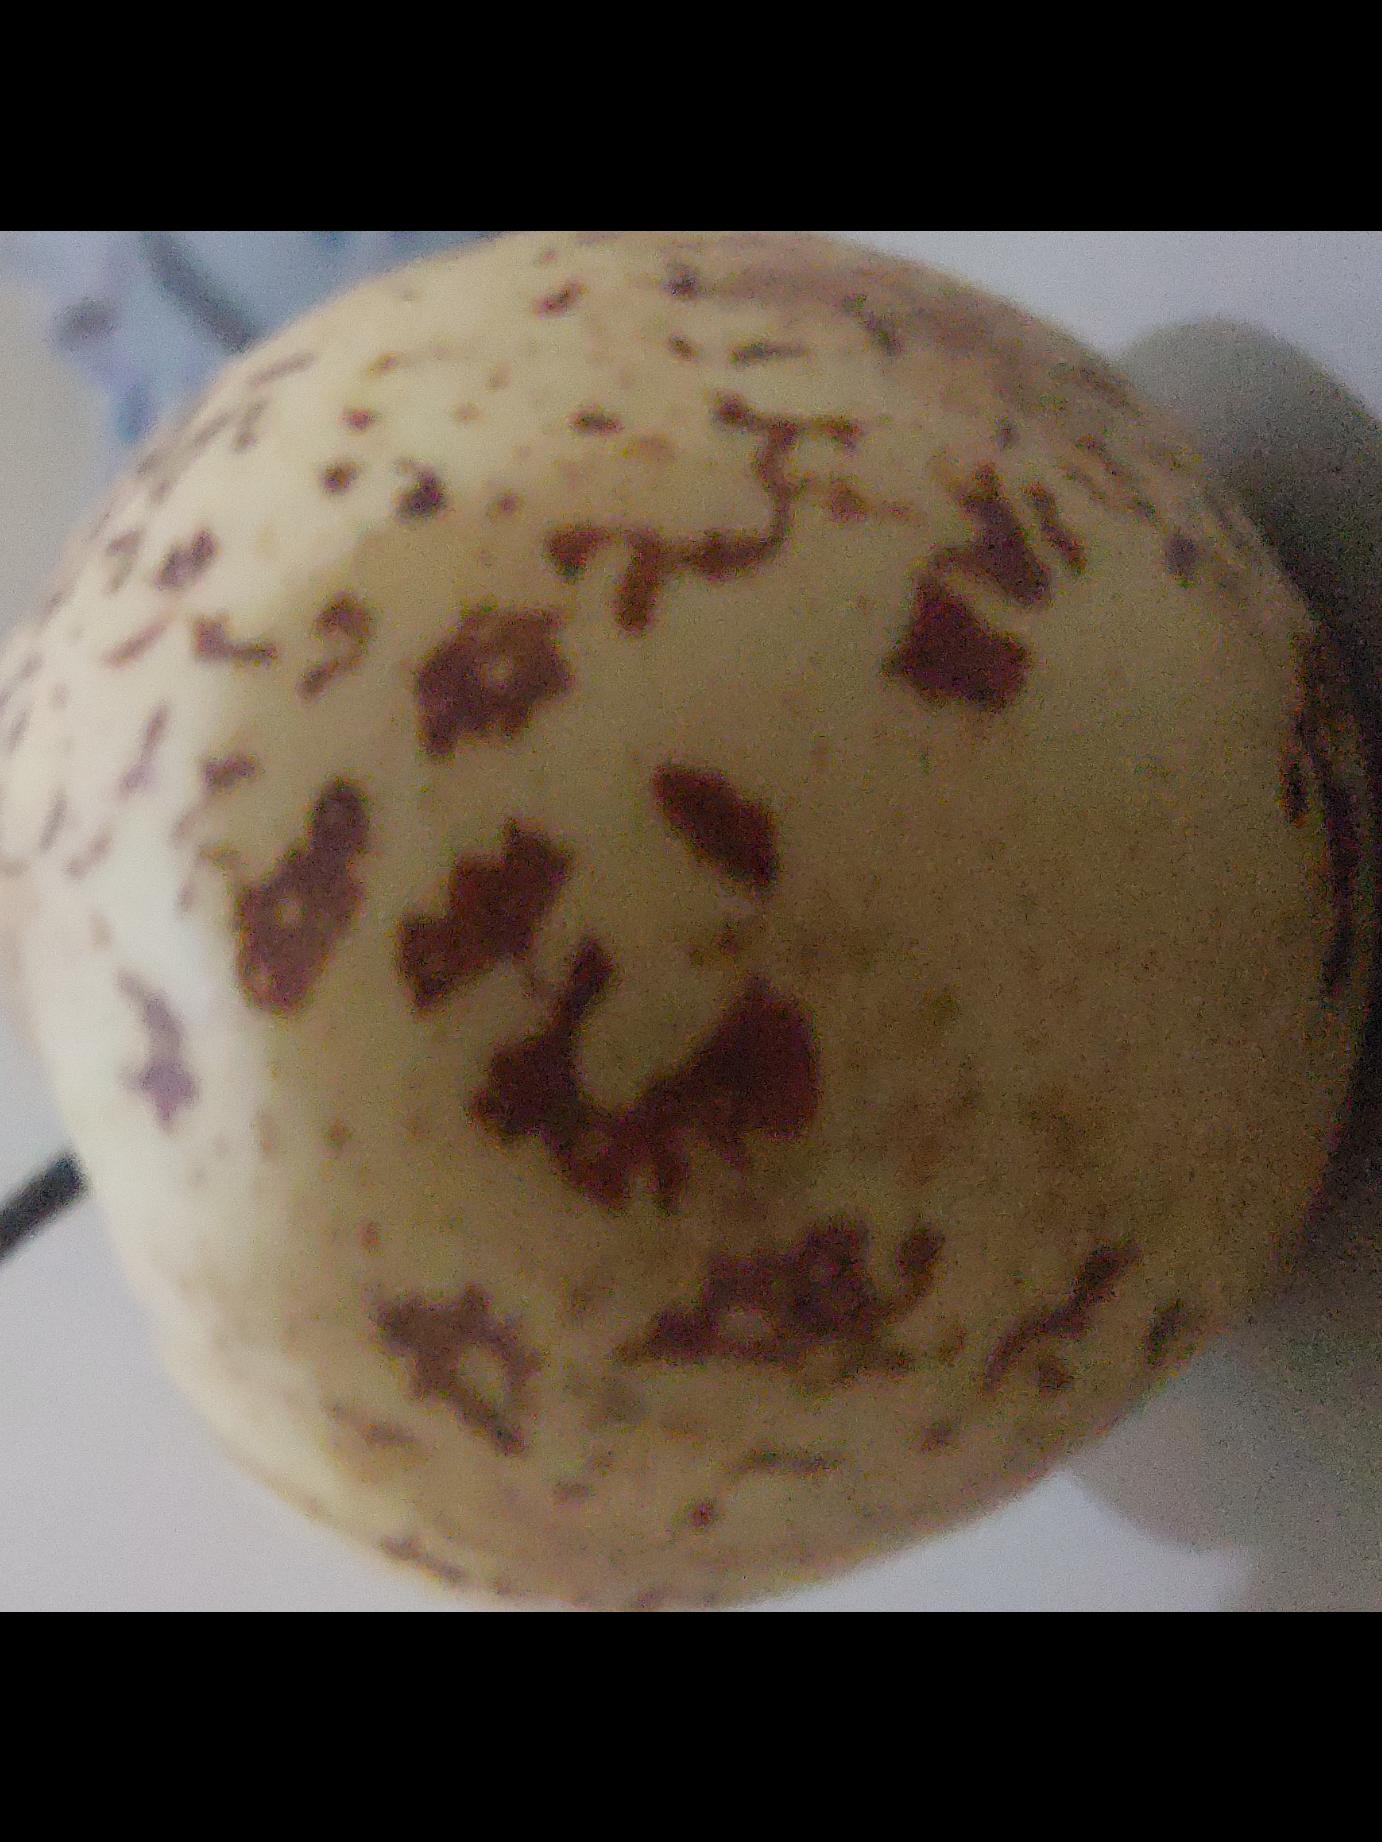Bad Pear: (0, 238, 1382, 1612)
